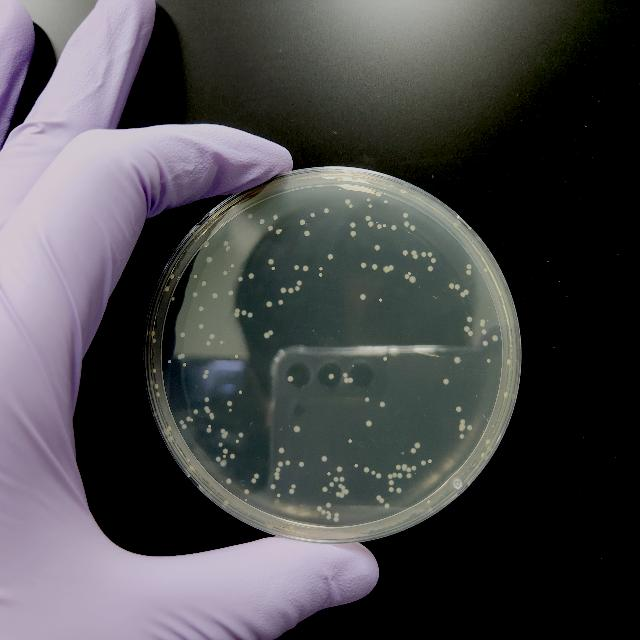colony: (220, 459, 228, 466), (409, 276, 416, 284), (366, 420, 372, 428), (454, 356, 460, 364), (382, 266, 390, 272), (402, 464, 408, 471), (203, 241, 209, 247), (206, 257, 212, 263), (164, 286, 170, 292), (192, 292, 198, 298), (300, 219, 306, 225), (310, 212, 316, 218), (304, 231, 310, 237), (268, 259, 274, 265), (228, 290, 234, 296), (212, 293, 218, 299), (198, 306, 204, 312), (198, 323, 204, 329), (180, 332, 186, 338), (266, 301, 272, 307), (296, 280, 302, 286), (238, 432, 244, 438), (223, 448, 229, 454), (288, 375, 294, 381), (264, 332, 270, 338), (268, 330, 274, 336), (226, 478, 232, 484), (278, 447, 284, 453), (289, 488, 295, 494), (270, 484, 276, 490), (294, 426, 300, 432), (321, 456, 327, 462), (337, 176, 343, 182), (365, 216, 371, 222), (350, 222, 356, 228), (360, 294, 366, 300), (342, 372, 348, 378), (328, 374, 334, 380), (337, 467, 343, 473), (322, 486, 328, 492), (316, 506, 322, 512), (364, 467, 370, 473), (380, 401, 386, 407), (414, 442, 420, 448), (410, 448, 416, 454), (388, 480, 394, 486), (396, 487, 402, 493), (388, 486, 394, 492), (392, 472, 398, 478), (443, 379, 449, 385), (456, 406, 462, 412), (482, 340, 488, 346), (492, 335, 498, 341), (468, 330, 474, 336), (464, 326, 470, 332), (467, 316, 473, 322), (460, 292, 466, 298), (449, 283, 455, 289), (404, 274, 410, 280), (428, 266, 434, 272), (388, 265, 394, 271), (372, 264, 378, 270), (374, 245, 380, 251), (402, 250, 408, 256), (413, 254, 419, 260), (410, 225, 416, 231), (403, 213, 409, 219), (375, 191, 381, 197), (504, 390, 508, 398), (202, 280, 206, 286), (223, 270, 227, 276), (260, 218, 264, 224), (274, 214, 278, 220), (324, 208, 328, 214), (248, 274, 254, 278), (151, 331, 155, 337), (152, 338, 156, 344), (177, 354, 181, 360), (181, 352, 185, 358), (206, 340, 210, 346), (210, 333, 214, 339), (234, 309, 240, 313), (234, 313, 240, 317), (242, 310, 246, 316), (248, 312, 252, 318), (278, 300, 284, 304), (280, 288, 286, 292), (288, 288, 294, 292), (304, 265, 308, 271), (328, 254, 332, 260), (202, 374, 208, 378), (228, 400, 232, 406), (155, 383, 159, 389), (156, 392, 160, 398), (186, 416, 190, 422), (206, 428, 212, 432), (222, 434, 226, 440), (230, 454, 236, 458), (216, 456, 220, 462), (182, 424, 186, 430), (190, 465, 194, 471), (278, 462, 284, 466), (286, 460, 290, 466), (274, 472, 280, 476), (254, 474, 260, 478), (252, 478, 256, 484), (244, 490, 250, 494), (350, 232, 356, 236), (334, 476, 338, 482), (340, 476, 344, 482), (330, 482, 334, 488), (326, 502, 330, 508), (288, 526, 294, 530), (267, 524, 273, 528), (340, 486, 346, 490), (340, 492, 344, 498), (344, 490, 350, 494), (376, 474, 382, 478), (376, 496, 382, 500), (380, 498, 384, 504), (384, 504, 390, 508), (348, 378, 354, 382), (344, 377, 348, 383), (406, 474, 412, 478), (422, 460, 426, 466), (396, 464, 400, 470), (406, 468, 412, 472), (398, 473, 402, 479), (388, 474, 392, 480), (460, 420, 466, 424), (468, 425, 472, 431), (507, 359, 511, 365), (462, 424, 466, 430), (480, 319, 486, 323), (480, 323, 486, 327), (464, 289, 468, 295), (456, 284, 460, 290), (466, 270, 472, 274), (466, 264, 472, 268), (432, 258, 436, 264), (428, 252, 432, 258), (422, 251, 426, 257), (362, 262, 366, 268), (412, 250, 416, 256), (391, 226, 397, 230), (368, 222, 374, 226), (378, 224, 382, 230), (404, 222, 410, 226), (400, 189, 406, 193), (274, 476, 280, 479), (481, 452, 484, 458), (224, 241, 228, 245), (170, 274, 174, 278), (248, 214, 252, 218), (268, 226, 272, 230), (276, 230, 280, 234), (349, 204, 353, 208), (346, 200, 350, 204), (238, 277, 242, 281), (235, 354, 239, 358), (295, 286, 299, 290), (294, 266, 298, 270), (204, 370, 208, 374), (205, 398, 209, 402), (228, 408, 232, 412), (152, 369, 156, 373), (194, 410, 198, 414), (210, 412, 214, 416), (208, 424, 212, 428), (221, 429, 225, 433), (224, 431, 228, 435), (219, 442, 223, 446), (180, 420, 184, 424), (204, 406, 208, 410), (206, 409, 210, 413), (168, 426, 172, 430), (224, 501, 228, 505), (300, 462, 304, 466), (292, 484, 296, 488), (277, 493, 281, 497), (276, 468, 280, 472), (348, 439, 352, 443), (368, 204, 372, 208), (322, 510, 326, 514), (327, 515, 331, 519), (335, 513, 339, 517), (334, 517, 338, 521), (338, 484, 342, 488), (336, 492, 340, 496), (354, 464, 358, 468), (371, 471, 375, 475), (383, 357, 387, 361), (365, 398, 369, 402), (412, 466, 416, 470), (428, 459, 432, 463), (460, 434, 464, 438), (486, 440, 490, 444), (427, 500, 431, 504), (459, 427, 463, 431), (460, 424, 464, 428), (482, 330, 486, 334), (484, 268, 488, 272), (383, 224, 387, 228), (195, 274, 198, 278), (230, 264, 233, 268), (220, 340, 223, 344), (168, 361, 172, 364), (190, 418, 193, 422), (210, 416, 214, 419), (222, 454, 225, 458), (167, 429, 170, 433), (187, 458, 190, 462), (170, 436, 173, 440), (351, 178, 357, 180), (326, 511, 330, 514), (384, 200, 388, 203), (362, 177, 366, 180), (226, 246, 230, 248), (172, 297, 174, 301), (279, 228, 281, 232), (272, 266, 274, 270), (320, 267, 322, 271), (235, 440, 239, 442), (368, 198, 370, 202), (380, 298, 382, 302), (328, 472, 330, 476), (328, 514, 332, 516), (352, 364, 354, 368), (488, 359, 490, 363), (408, 271, 410, 275), (240, 391, 242, 394), (226, 248, 228, 250), (320, 274, 322, 276), (184, 364, 186, 366), (245, 499, 247, 501), (212, 489, 214, 491), (342, 490, 344, 492), (376, 222, 378, 224)
